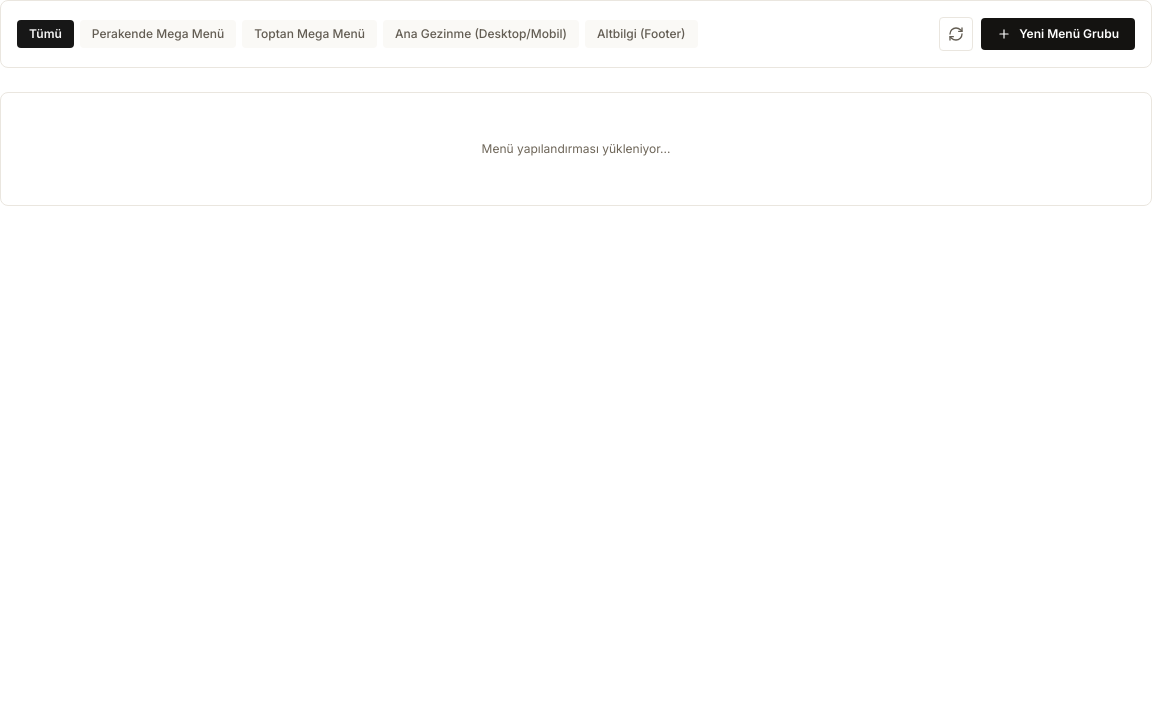
Scenario: AdminNavigationTab Component (Phase 2.9) › opens and closes new menu group modal
This screenshot has width=1152, height=718.
Click the button "Yeni Menü Grubu" at (1058, 34), box left=981, top=18, right=1135, bottom=50
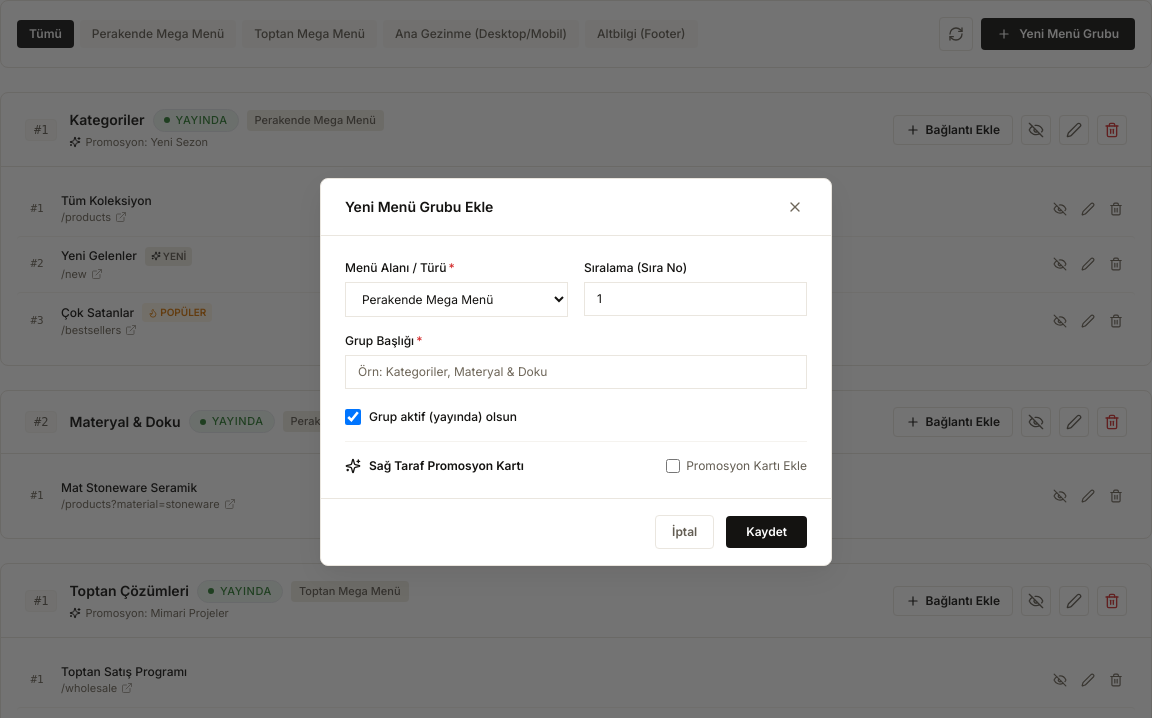
Check: the heading "Yeni Menü Grubu Ekle" is shown, box left=345, top=197, right=493, bottom=217
Check: the field labelled "Grup Başlığı*" is shown, box left=345, top=355, right=807, bottom=389
Click the button "İptal" at (685, 532), box left=655, top=515, right=714, bottom=549
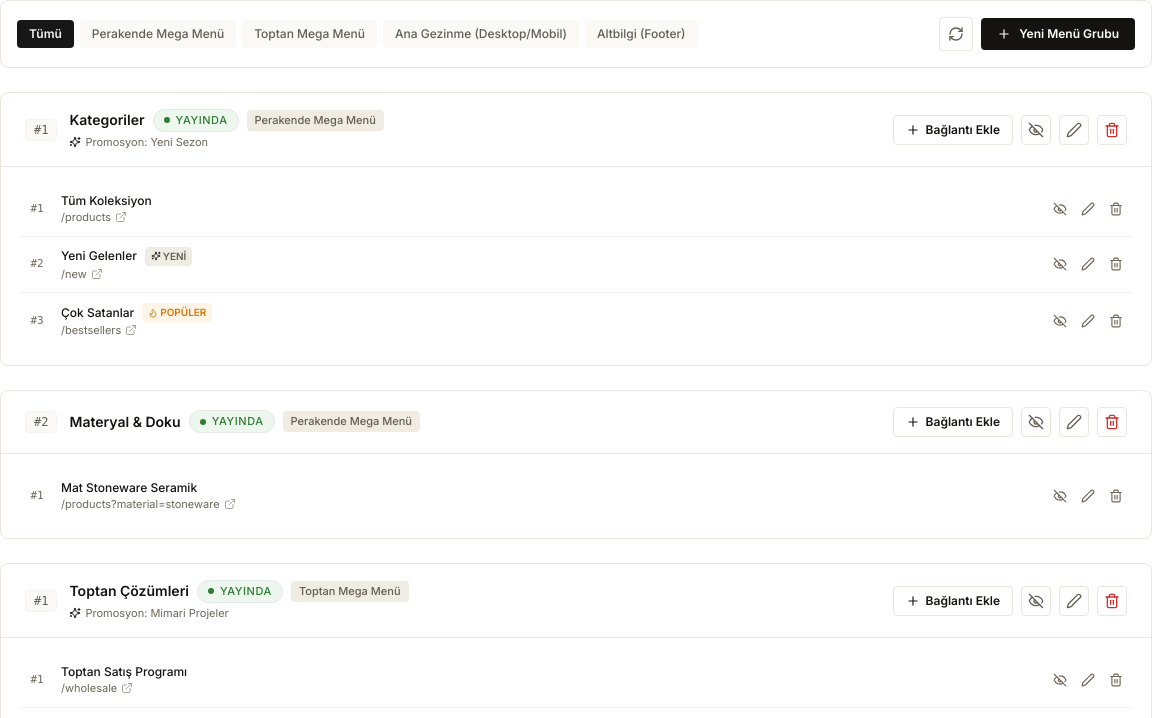
Check: the heading "Yeni Menü Grubu Ekle" is gone
